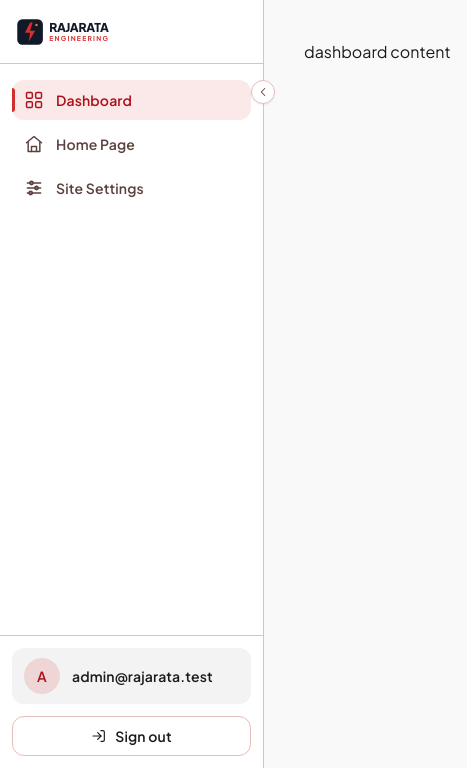
Scenario: AdminLayout › collapses the sidebar and remembers the choice
Click the button named "Collapse navigation" at (263, 92), box [251,80,275,104]
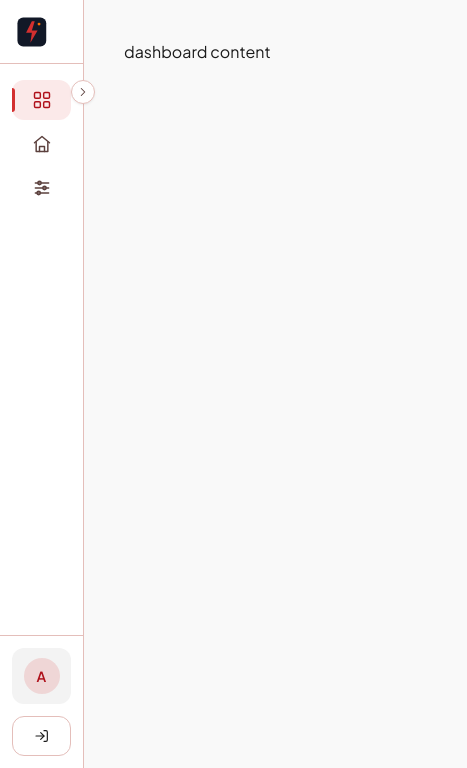
Expected: the button named "Expand navigation" is shown, [71,80,95,104]
